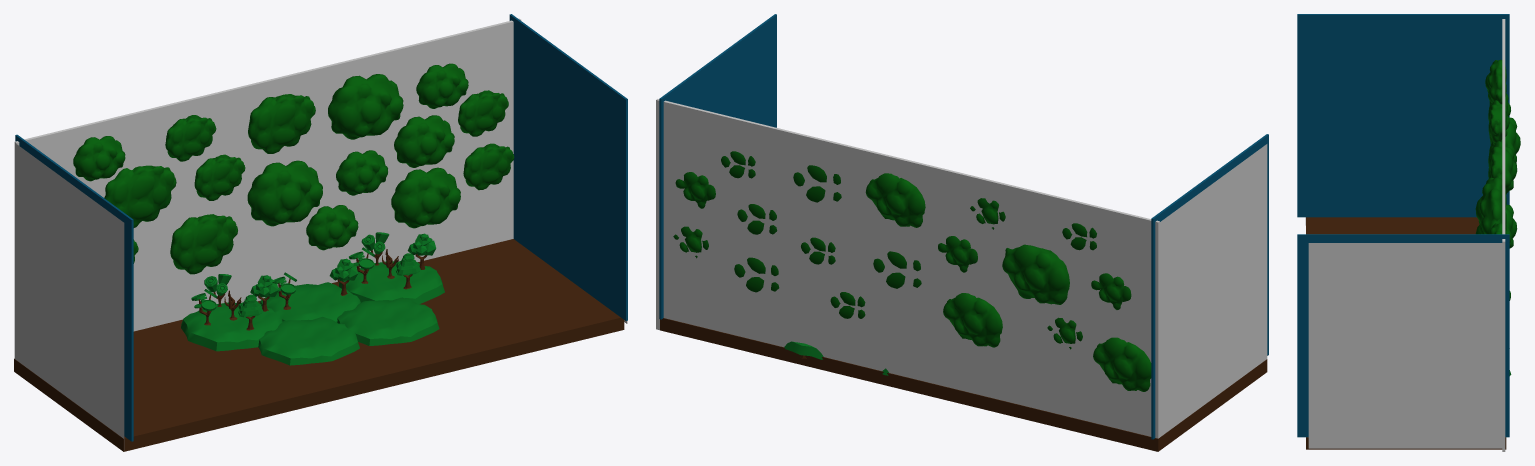
Rendered from new_terrain.gltf.
3 views of the same model, side by side, from view 1: azimuth 30°, elevation 25°; view 2: azimuth 150°, elevation 25°; view 3: azimuth 270°, elevation 25° (orthographic). The views are drawn at different scales.
Visible parts, largest first — view 1: Cube; view 2: Cube; view 3: Cube.
Boxes of the visible parts, x1,y1,x2,y2 form: Cube: (14,14,627,451); Cube: (656,14,1268,451); Cube: (1297,14,1520,451).
Size of the model in its own units: 222 by 106 by 93.15.
